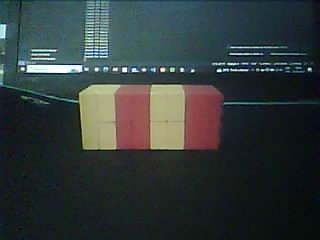lego: (78, 83, 225, 151)
